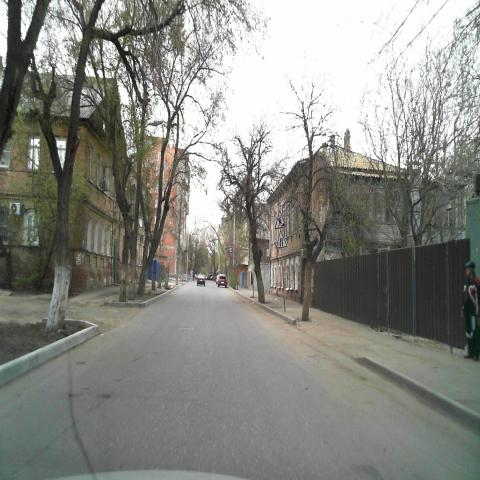1_20_3: (276, 231, 287, 248)
1_25: (274, 209, 286, 228)
